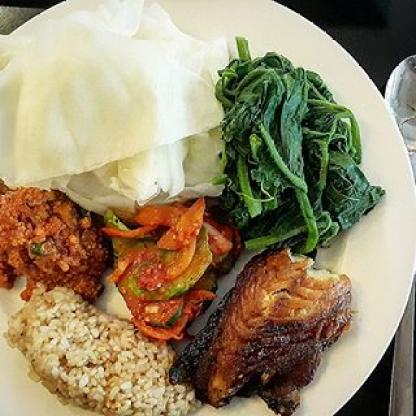Peixe: (166, 234, 369, 410)
